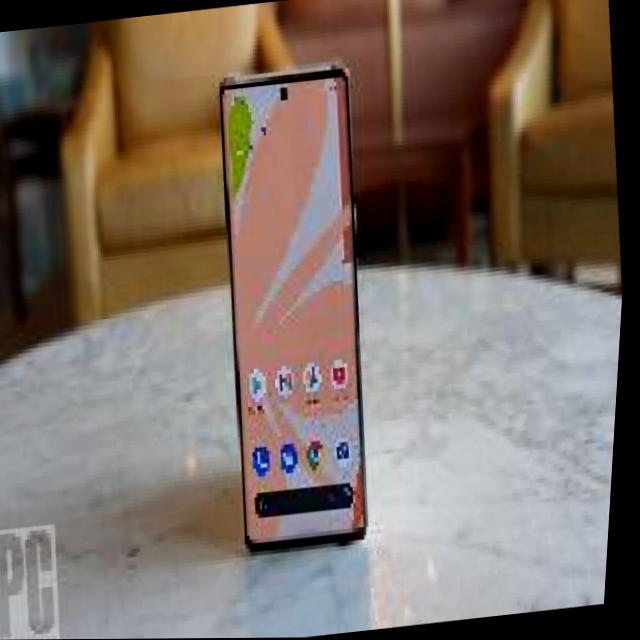Smartphone: (200, 64, 397, 557)
